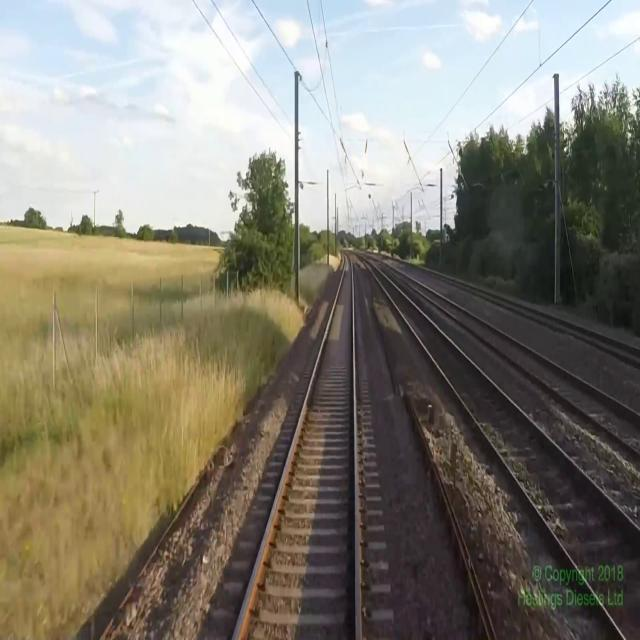rail-track: (359, 255, 640, 639), (378, 261, 640, 450), (236, 253, 356, 639), (451, 281, 640, 363)
